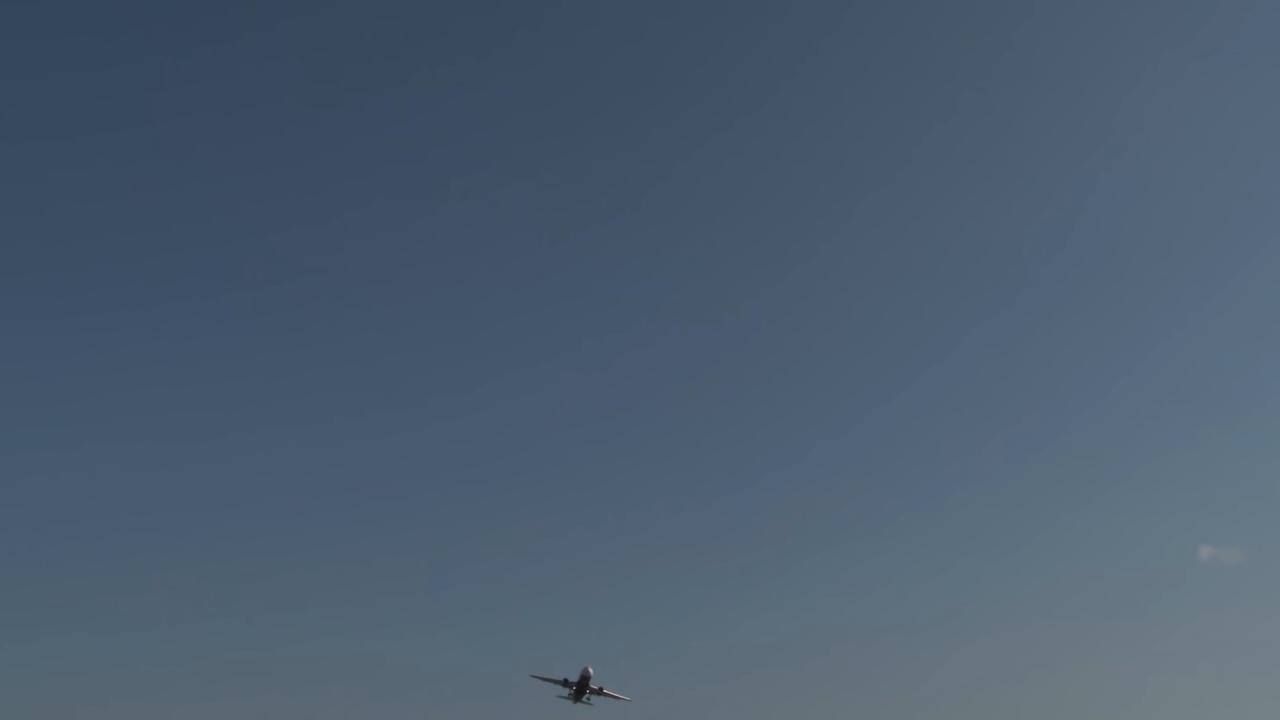Airplane: (523, 659, 646, 713)
